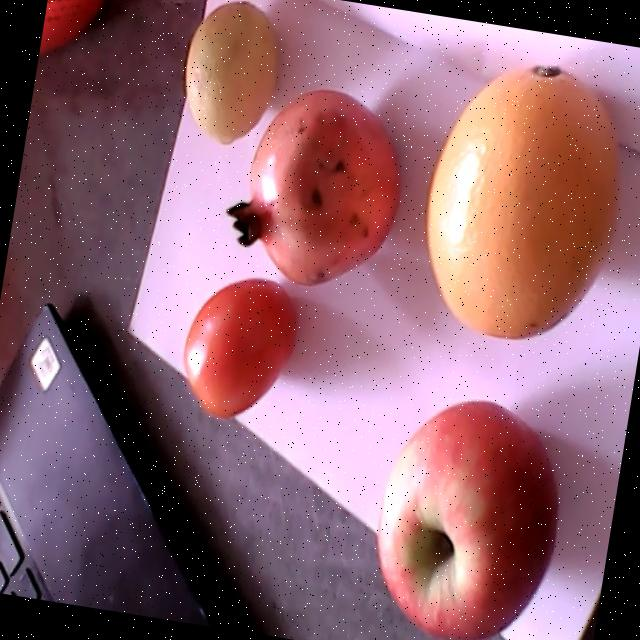apple: (376, 400, 556, 639)
lemon: (186, 0, 279, 144)
orange: (425, 64, 618, 338)
pomegranate: (226, 87, 398, 286)
tomato: (183, 280, 296, 417)
